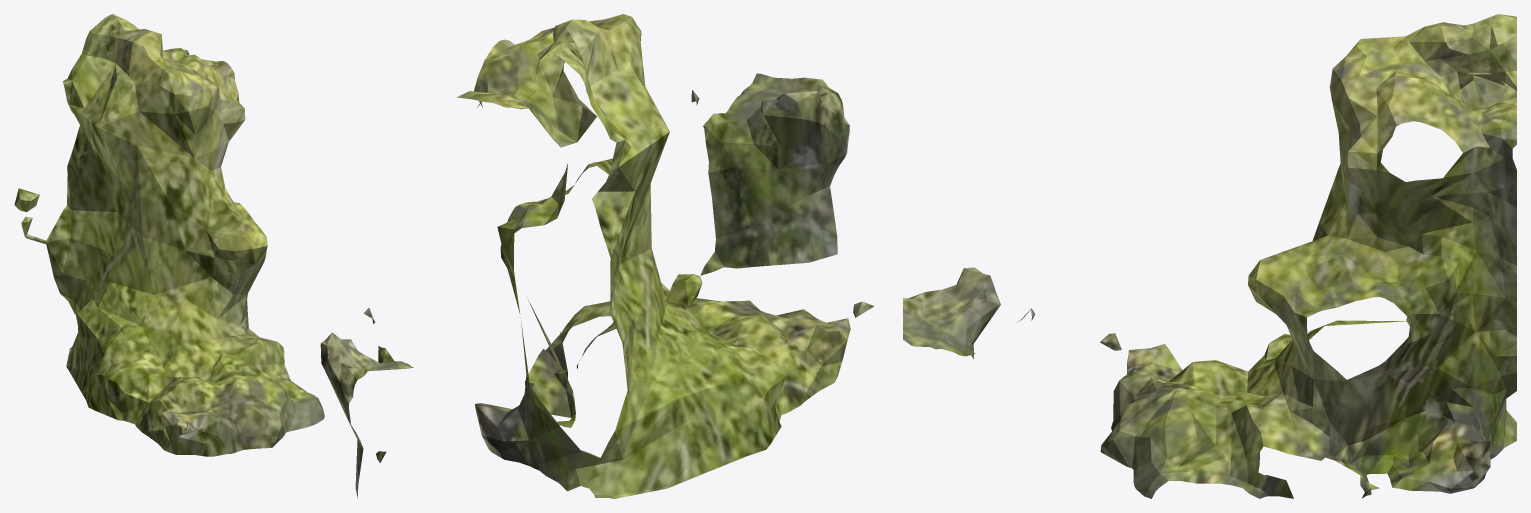
3 renders of one model, left to right at view 1: azimuth 30°, elevation 25°; view 2: azimuth 150°, elevation 25°; view 3: azimuth 270°, elevation 25°, orthographic. The views are drawn at different scales.
Size of the model in its own units: 1.33 by 2.3 by 2.95.
Materials: 3 (3 with a texture image).
